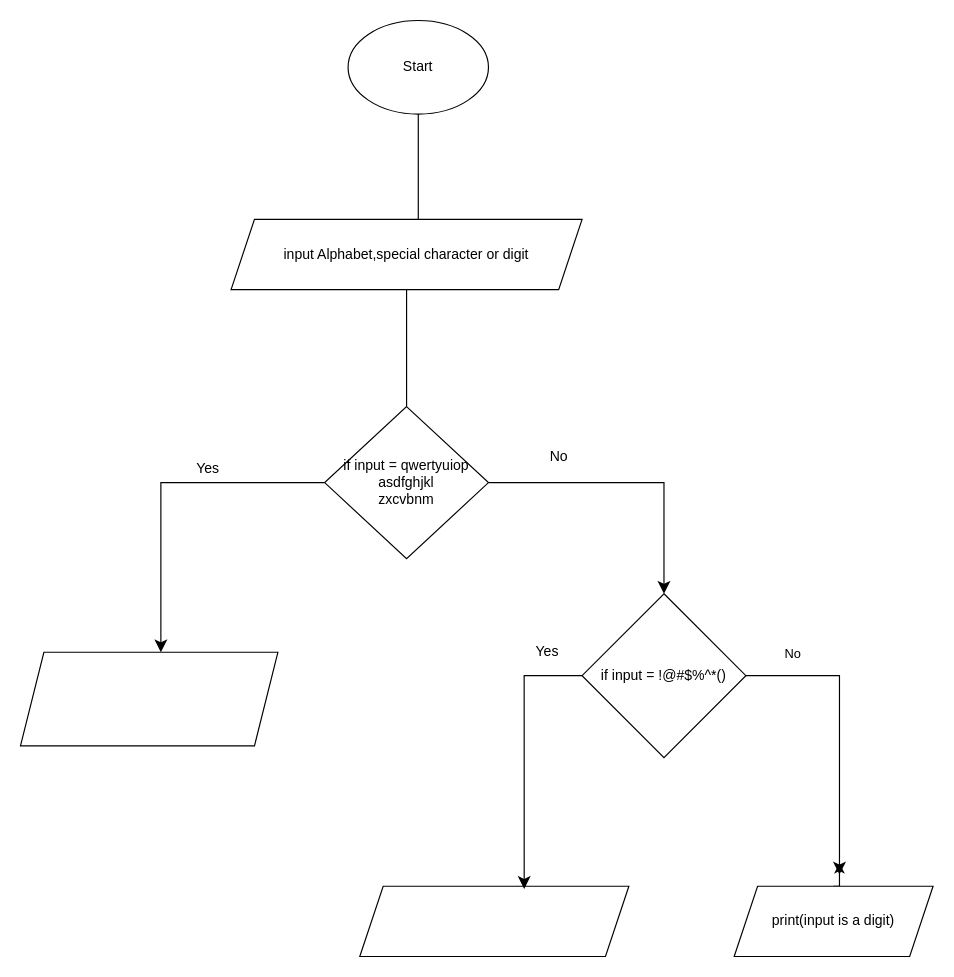
The diagram is 954 pixels wide and 977 high, and some of its shapes have lost their labels. The centre of each missing label's shape, as x and y in pixels:
print(input is alphabet): the point at 148,698
print(input is special character): the point at 494,920
